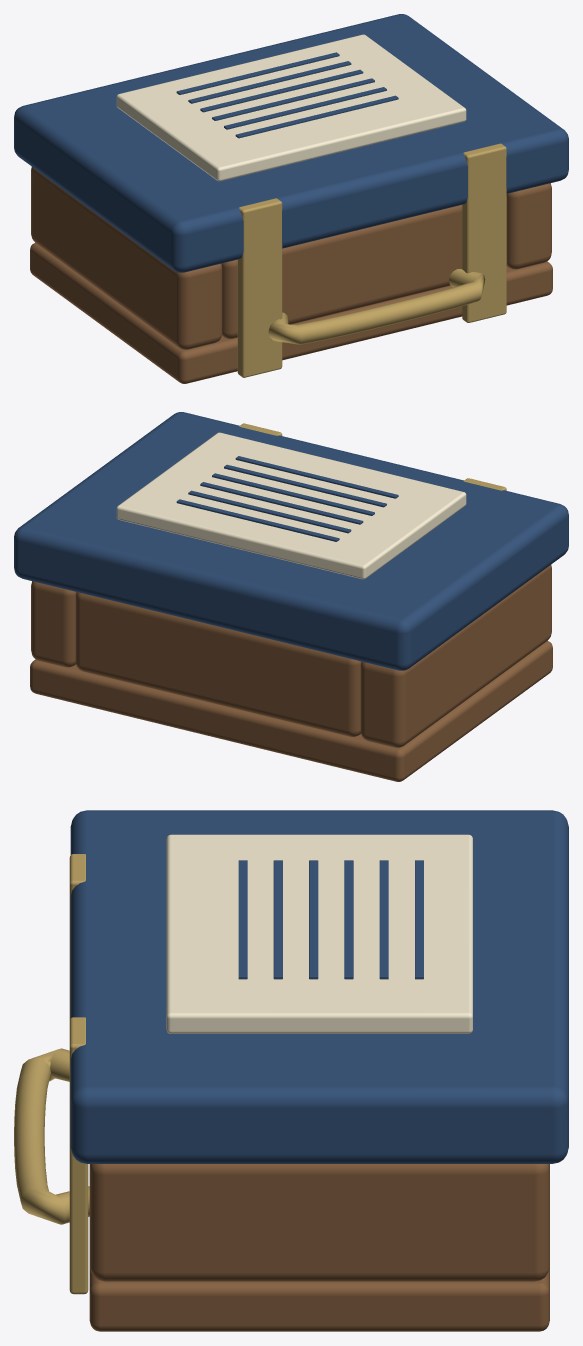
The model's file is fantasy-cartographers-map-printing-guild-field-noteboo-06039c19__32240.glb.
3 views of the same model, one above another, from view 1: azimuth 30°, elevation 25°; view 2: azimuth 150°, elevation 25°; view 3: azimuth 270°, elevation 25° (orthographic). The views are drawn at different scales.
Parts seen in each view (by area): view 1: field-notebook-case; view 2: field-notebook-case; view 3: field-notebook-case.
Part boxes in pixels (<box>): field-notebook-case: <box>14,14,568,383</box>; field-notebook-case: <box>14,412,568,781</box>; field-notebook-case: <box>14,810,568,1331</box>.
Size of the model in its own units: 0.445 by 0.202 by 0.3619.
